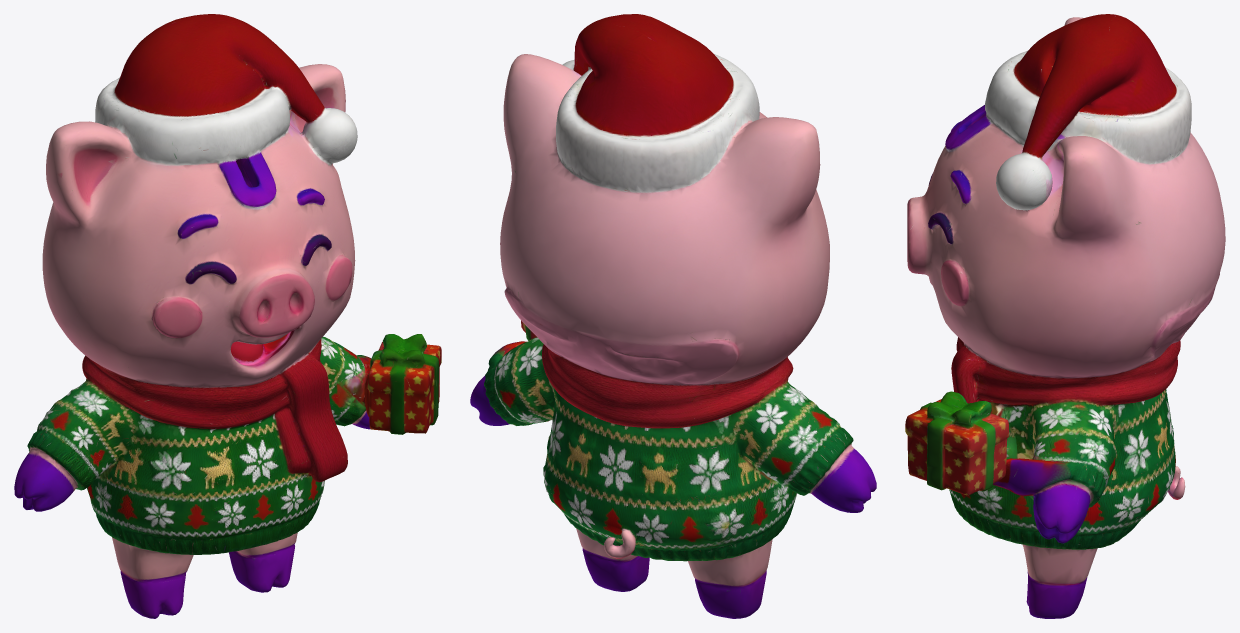
The model's file is quita-natal.glb.
3 views of the same model, side by side, from view 1: azimuth 30°, elevation 25°; view 2: azimuth 150°, elevation 25°; view 3: azimuth 270°, elevation 25° (orthographic). The views are drawn at different scales.
Parts seen in each view (by area): view 1: Mesh_0; view 2: Mesh_0; view 3: Mesh_0.
Boxes of the visible parts, x1,y1,x2,y2 form: Mesh_0: [14, 14, 441, 618]; Mesh_0: [470, 14, 876, 618]; Mesh_0: [905, 14, 1225, 618].
Bounding box in the file's own units: 1.36 × 1.91 × 0.9742.
Materials: 1 (1 with a texture image).
